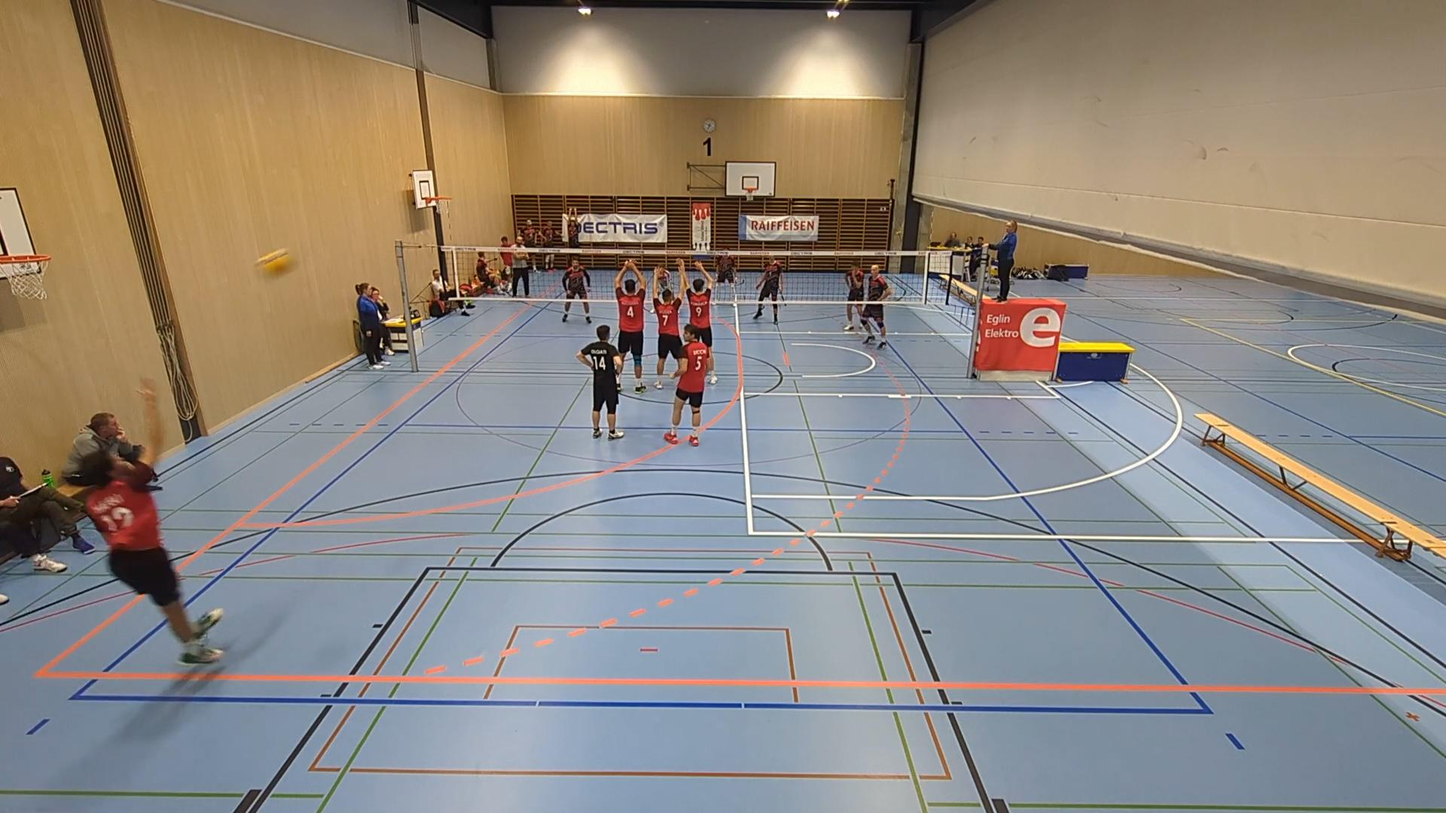battuta: (71, 373, 232, 667)
